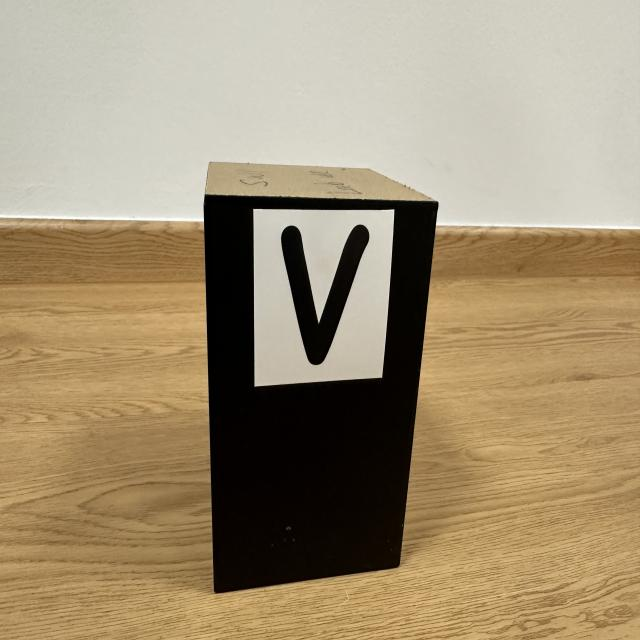V: (281, 225, 369, 365)
